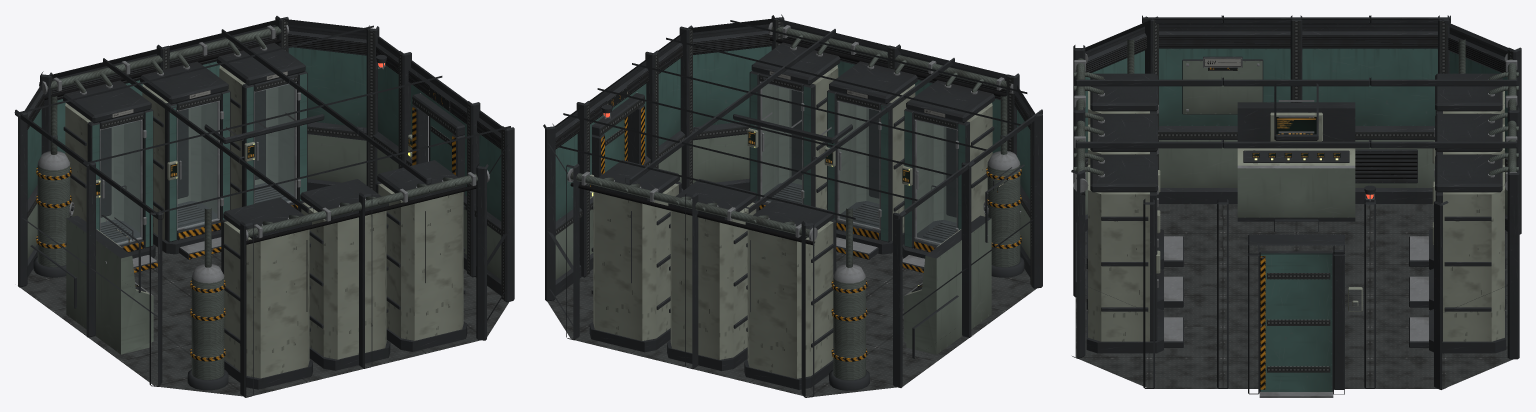
File: ROOM_cryo.glb
3 renders of one model, left to right at view 1: azimuth 30°, elevation 25°; view 2: azimuth 150°, elevation 25°; view 3: azimuth 270°, elevation 25°, orthographic. The views are drawn at different scales.
Visible parts, largest first — view 1: CRYO_POD_04, CRYO_POD_06, CRYO_POD_02, CRYO_POD_05, CRYO_POD_03, ST_cryo_wall_07, CRYO_POD_01, DET_cryo_monitor, ST_cryo_wall_05, DET_cryo_manifolds, ST_cryo_wall_04, DET_cryo_tank_02 (+30 smaller); view 2: CRYO_POD_03, CRYO_POD_01, CRYO_POD_02, CRYO_POD_05, CRYO_POD_04, CRYO_POD_06, ST_cryo_wall_03, DET_cryo_monitor, DET_cryo_manifolds, ST_cryo_wall_05, ST_cryo_wall_06, CRYO_POD_04_glass (+30 smaller); view 3: ST_cryo_wall_11, ST_cryo_wall_12, CRYO_POD_06, CRYO_POD_01, DET_cryo_monitor, DOOR_cryo, ST_cryo_floor_07, ST_cryo_wall_05, ST_cryo_floor_09, ST_cryo_floor_02, ST_cryo_floor_08, CRYO_POD_05 (+26 smaller).
Boxes of the visible parts, <box> form: CRYO_POD_04: <box>221,197,312,389</box>; CRYO_POD_06: <box>375,160,467,351</box>; CRYO_POD_02: <box>140,51,230,259</box>; CRYO_POD_05: <box>298,179,390,370</box>; CRYO_POD_03: <box>63,73,157,272</box>; ST_cryo_wall_07: <box>278,18,379,191</box>; CRYO_POD_01: <box>217,35,307,210</box>; DET_cryo_monitor: <box>66,215,153,354</box>; ST_cryo_wall_05: <box>405,55,480,277</box>; DET_cryo_manifolds: <box>39,25,489,244</box>; ST_cryo_wall_04: <box>473,105,514,302</box>; DET_cryo_tank_02: <box>187,208,228,390</box>; CRYO_POD_03: <box>744,197,836,389</box>; CRYO_POD_01: <box>589,160,681,352</box>; CRYO_POD_02: <box>667,179,758,370</box>; CRYO_POD_05: <box>824,53,917,259</box>; CRYO_POD_04: <box>902,72,994,273</box>; CRYO_POD_06: <box>747,35,840,210</box>; ST_cryo_wall_03: <box>685,14,784,190</box>; DET_cryo_monitor: <box>904,215,991,354</box>; DET_cryo_manifolds: <box>567,22,1013,245</box>; ST_cryo_wall_05: <box>589,50,658,270</box>; ST_cryo_wall_06: <box>553,101,589,295</box>; CRYO_POD_04_glass: <box>914,119,957,245</box>; ST_cryo_wall_11: <box>1296,15,1449,203</box>; ST_cryo_wall_12: <box>1149,15,1302,203</box>; CRYO_POD_06: <box>1074,153,1183,353</box>; CRYO_POD_01: <box>1409,153,1518,353</box>; DET_cryo_monitor: <box>1237,102,1355,221</box>; DOOR_cryo: <box>1259,251,1333,391</box>; ST_cryo_floor_07: <box>1075,326,1222,388</box>; ST_cryo_wall_05: <box>1217,199,1362,397</box>; ST_cryo_floor_09: <box>1370,326,1512,388</box>; ST_cryo_floor_02: <box>1223,204,1369,264</box>; ST_cryo_floor_08: <box>1223,326,1369,388</box>; CRYO_POD_05: <box>1074,112,1183,310</box>.
Bounding box in the file's own units: 6.31 × 2.85 × 6.12.
Materials: 8 (4 with a texture image).
